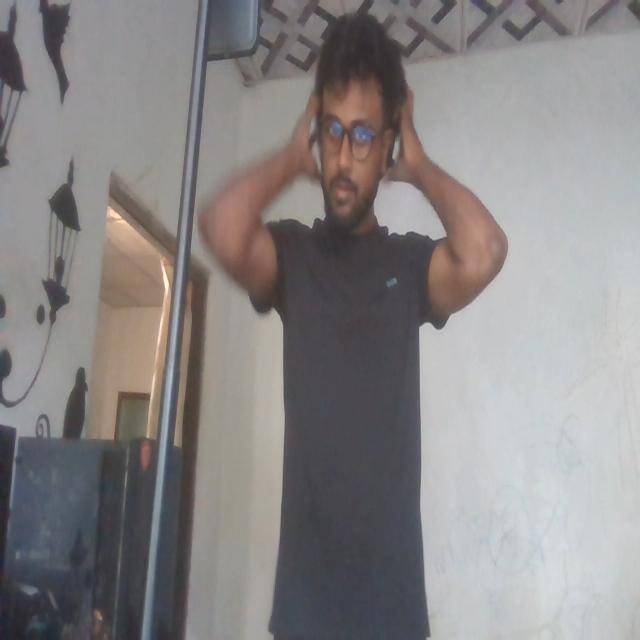Person: (214, 0, 506, 640)
